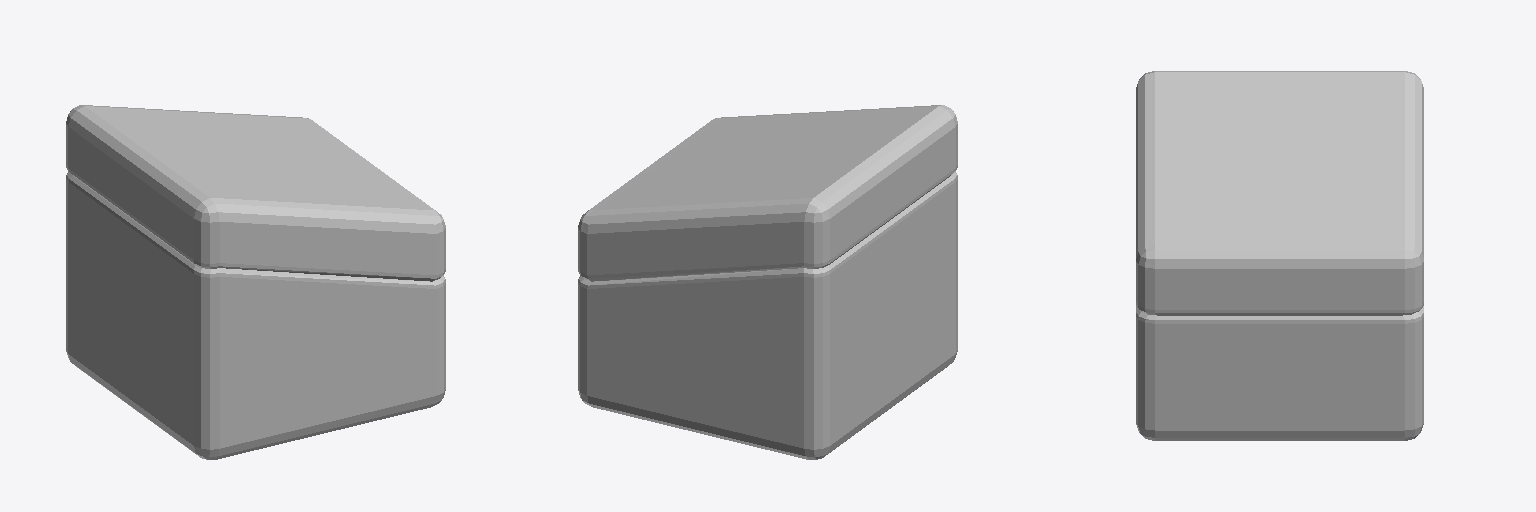
File: tileSlopeMediumHigh_teamYellow.obj
3 views of the same model, side by side, from view 1: azimuth 30°, elevation 25°; view 2: azimuth 150°, elevation 25°; view 3: azimuth 270°, elevation 25° (orthographic).
Parts seen in each view (by area): view 1: tileSlopeMediumHigh_teamYellow_Cube.018; view 2: tileSlopeMediumHigh_teamYellow_Cube.018; view 3: tileSlopeMediumHigh_teamYellow_Cube.018.
Boxes of the visible parts, <box> form: tileSlopeMediumHigh_teamYellow_Cube.018: <box>66,105,445,459</box>; tileSlopeMediumHigh_teamYellow_Cube.018: <box>578,105,957,459</box>; tileSlopeMediumHigh_teamYellow_Cube.018: <box>1136,71,1423,440</box>.
Bounding box in the file's own units: 2 × 2 × 2.